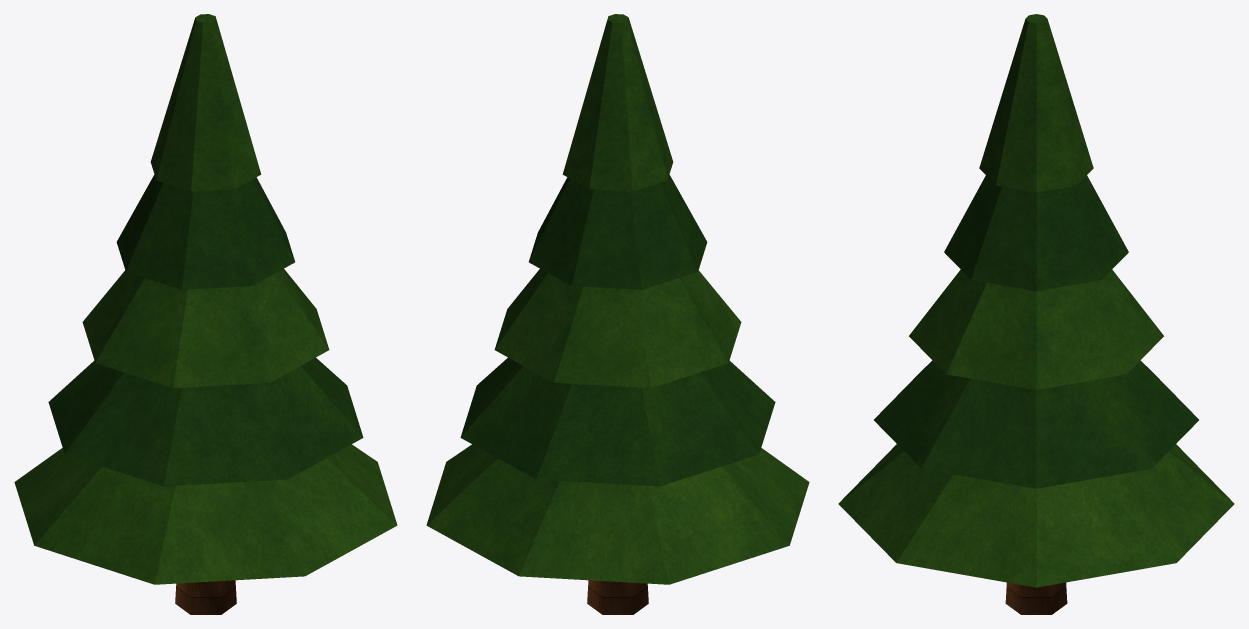
The model's file is tree_pine.glb.
The picture shows the model from 3 angles, left to right: view 1: azimuth 30°, elevation 25°; view 2: azimuth 150°, elevation 25°; view 3: azimuth 270°, elevation 25°; orthographic projection.
Parts seen in each view (by area): view 1: tree_pine; view 2: tree_pine; view 3: tree_pine.
Boxes of the visible parts, x1=… form: tree_pine: x1=14, y1=14, x2=397, y2=614; tree_pine: x1=426, y1=14, x2=809, y2=614; tree_pine: x1=838, y1=14, x2=1234, y2=614.
Bounding box in the file's own units: 1.8 × 2.93 × 1.8.
3 materials, 3 textured.
